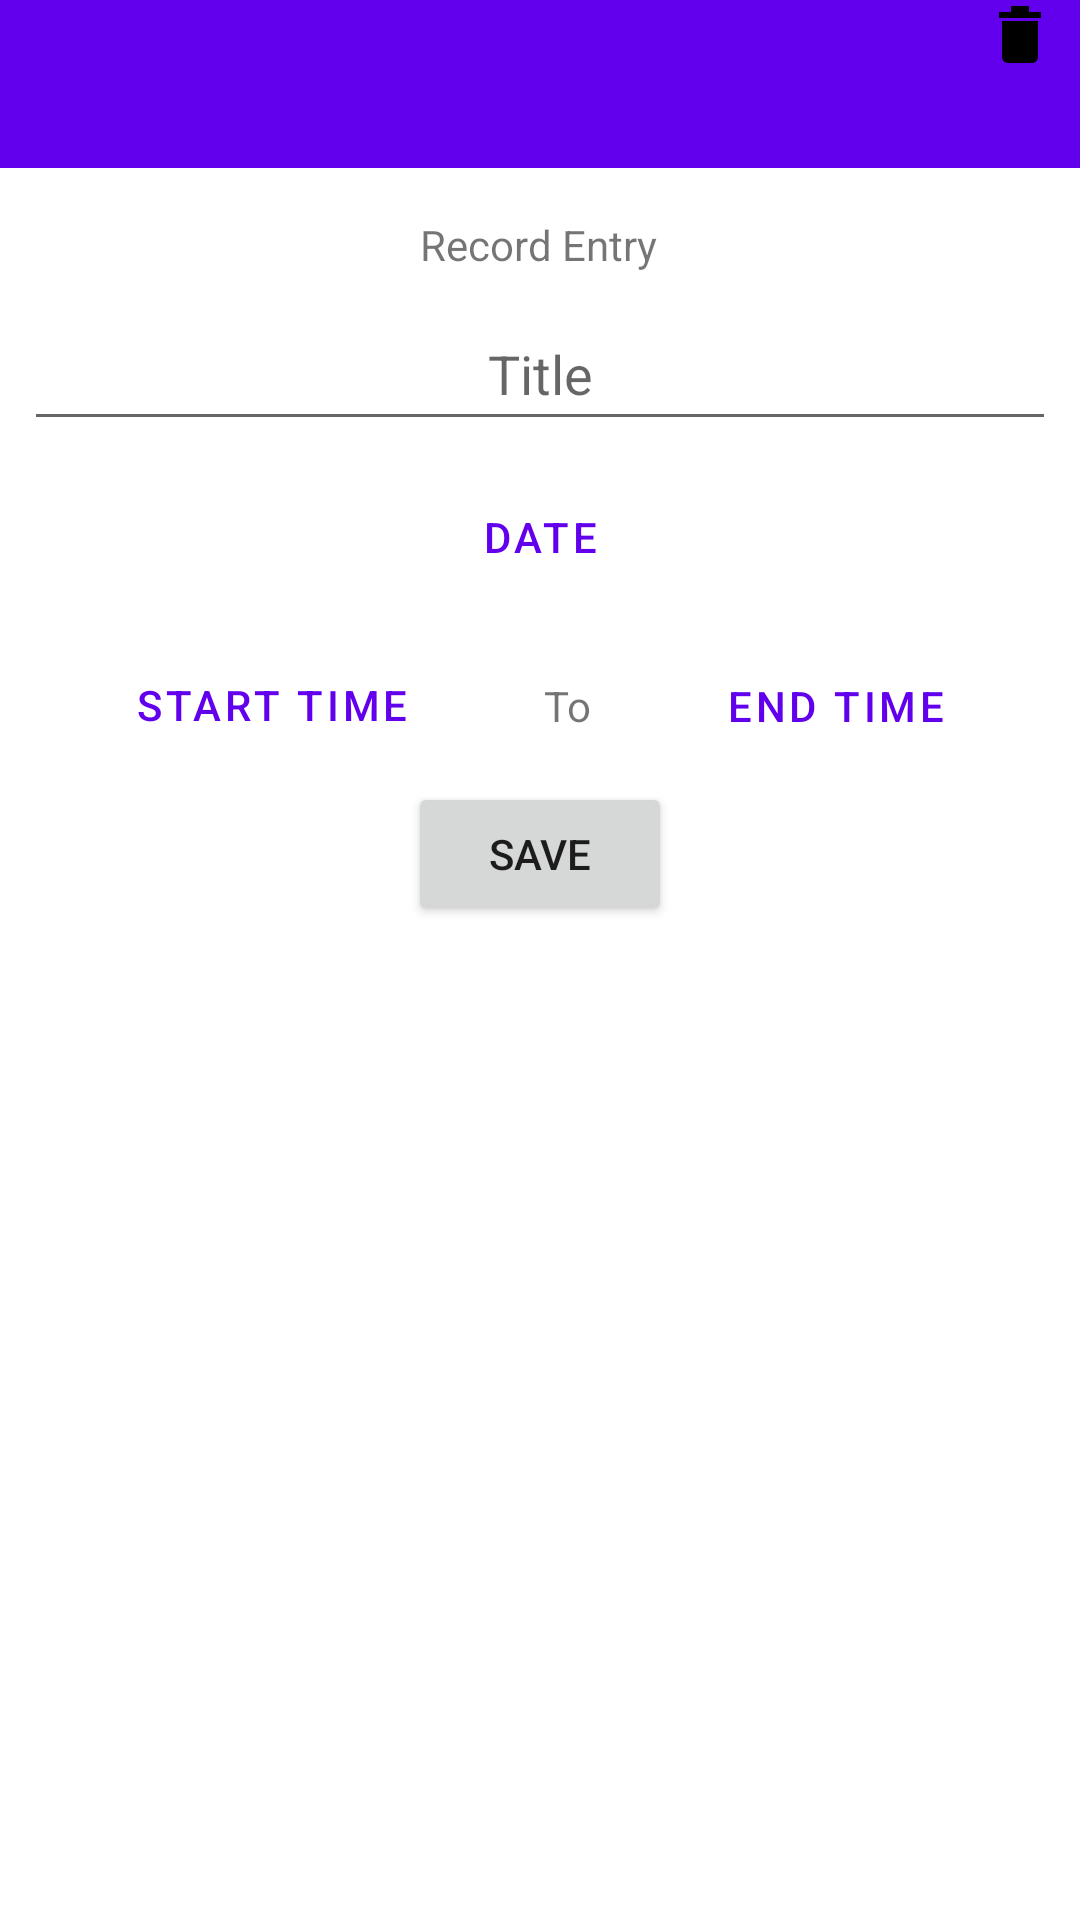

Where icons sit on this 1080x1920 app screen, as (x1, y1, x2, y2):
Delete Entry: (999, 6, 1041, 63)
